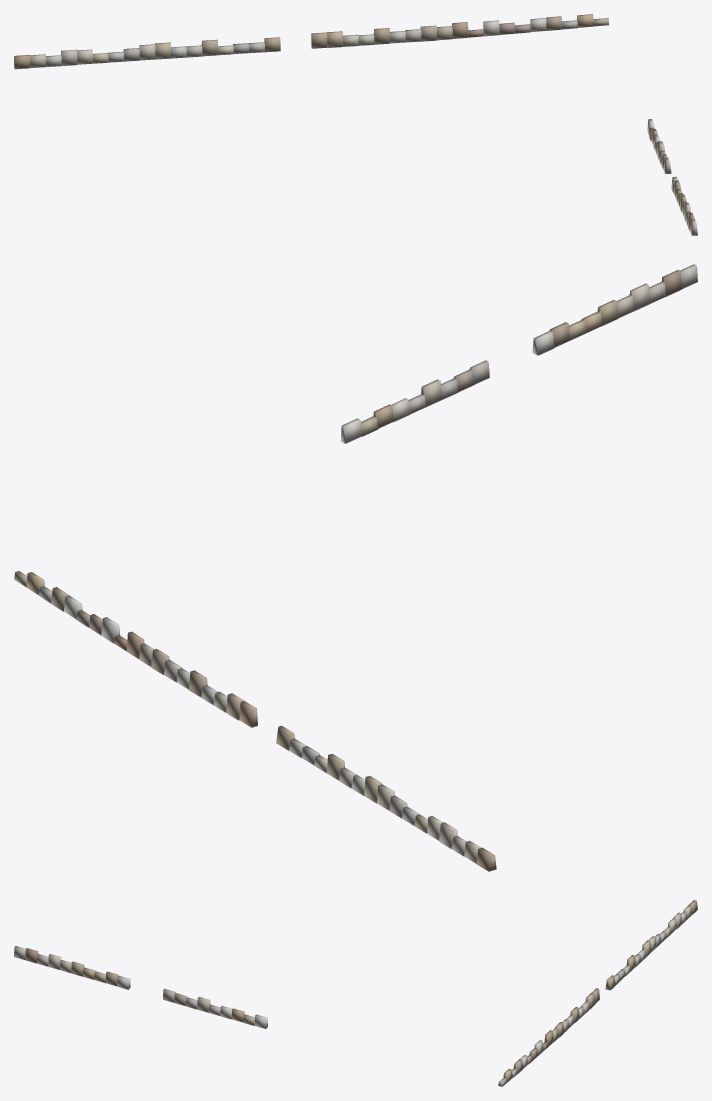
The model's file is farm_-16_-27_collision.glb.
3 views of the same model, one above another, from view 1: azimuth 30°, elevation 25°; view 2: azimuth 150°, elevation 25°; view 3: azimuth 270°, elevation 25° (orthographic). The views are drawn at different scales.
Parts seen in each view (by area): view 1: geometry_0; view 2: geometry_0; view 3: geometry_0.
Boxes of the visible parts, box(x1,y1,x2,y2) form: geometry_0: box(14, 14, 697, 235); geometry_0: box(14, 264, 697, 871); geometry_0: box(14, 900, 697, 1086).
Size of the model in its own units: 55.71 by 9.35 by 84.57.
